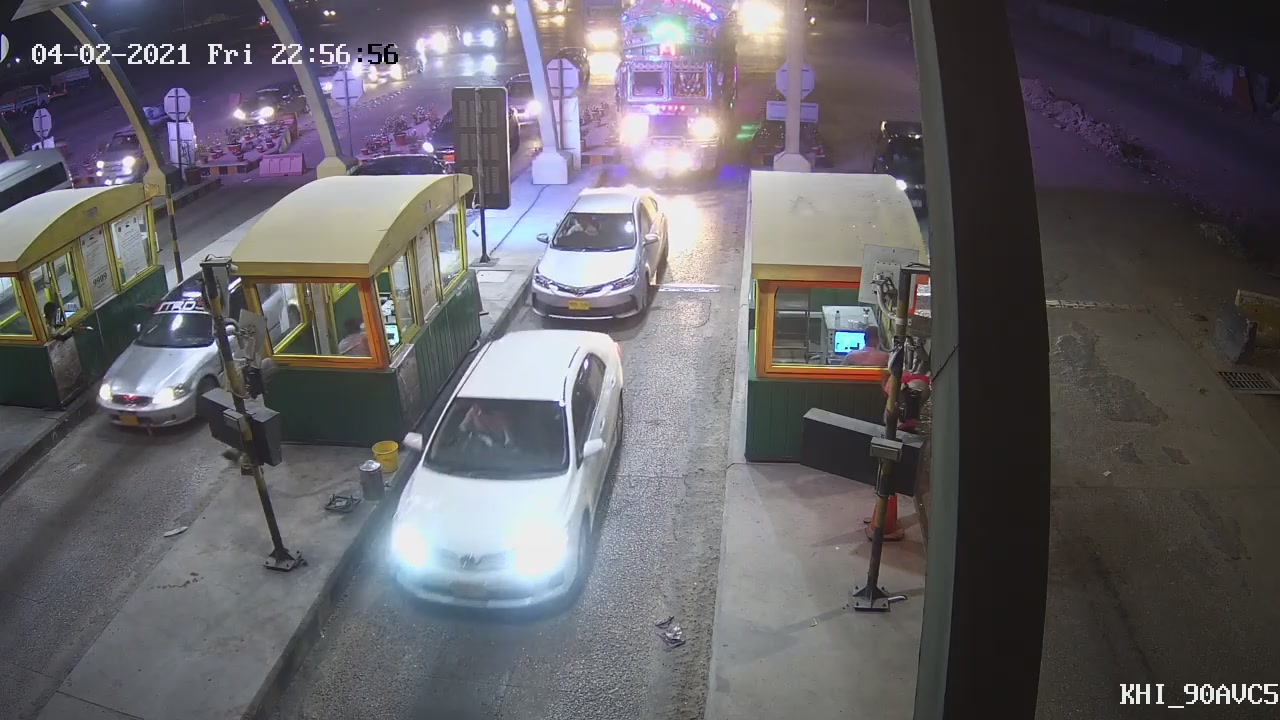F1: (380, 330, 629, 614), (530, 184, 672, 324)
